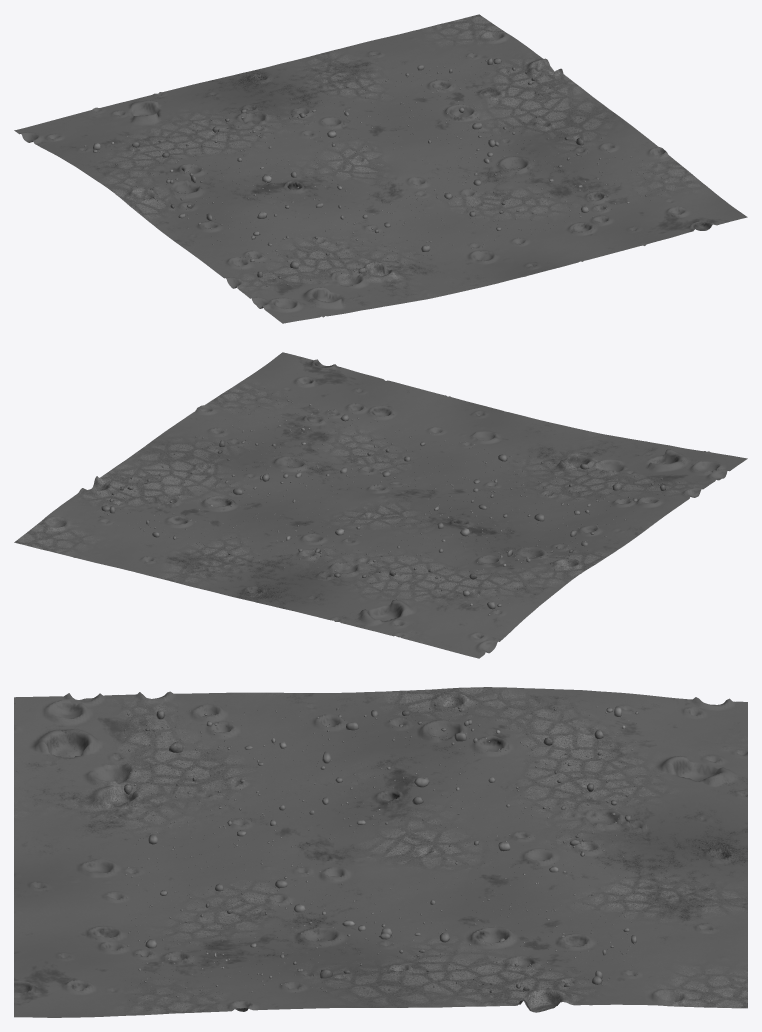
The model's file is lunar_terrain_8042.glb.
The picture shows the model from 3 angles, top to bottom: view 1: azimuth 30°, elevation 25°; view 2: azimuth 150°, elevation 25°; view 3: azimuth 270°, elevation 25°; orthographic projection. The views are drawn at different scales.
Parts seen in each view (by area): view 1: lunar_terrain_80_42; view 2: lunar_terrain_80_42; view 3: lunar_terrain_80_42.
Part boxes in pixels (left/top/right/bottom): lunar_terrain_80_42: left=14, top=14, right=747, bottom=323; lunar_terrain_80_42: left=14, top=352, right=747, bottom=658; lunar_terrain_80_42: left=14, top=687, right=747, bottom=1017.
Size of the model in its own units: 120 by 6.51 by 120.
Materials: 1 (1 with a texture image).
